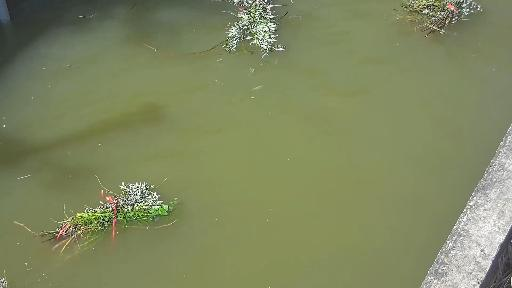twig: (34, 166, 192, 265), (391, 0, 484, 43), (221, 0, 282, 63), (0, 273, 14, 286)
